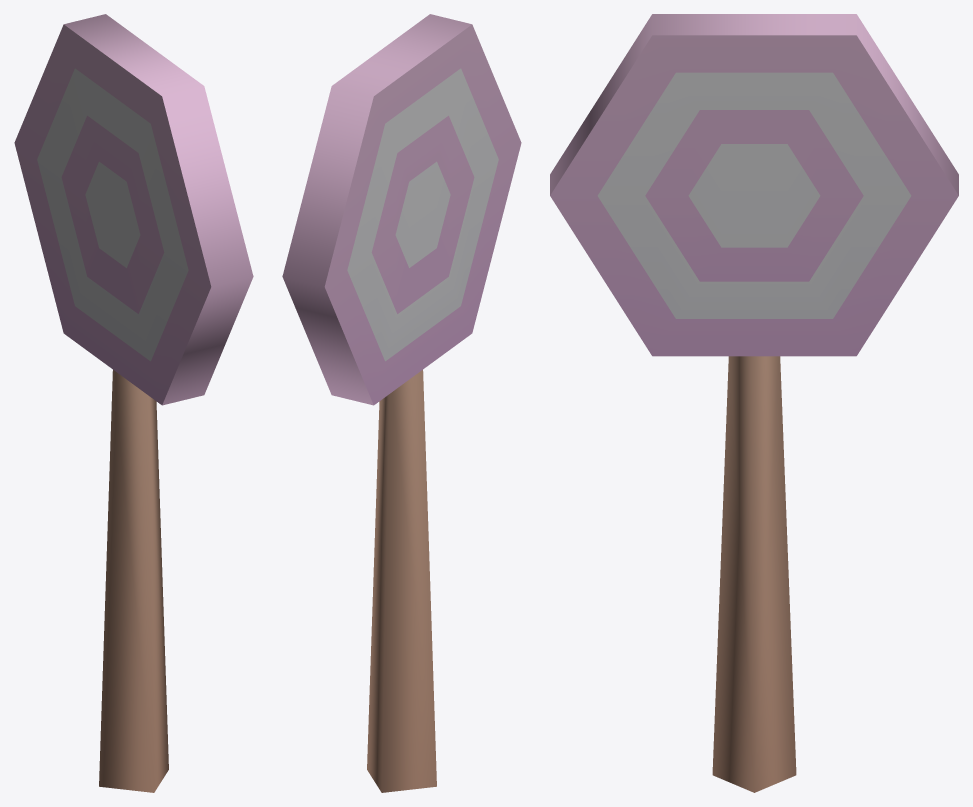
Rendered from lollypop.glb.
The picture shows the model from 3 angles, left to right: view 1: azimuth 30°, elevation 25°; view 2: azimuth 150°, elevation 25°; view 3: azimuth 270°, elevation 25°; orthographic projection. The views are drawn at different scales.
Visible parts, largest first — view 1: lollypop; view 2: lollypop; view 3: lollypop.
Part boxes in pixels (x1,y1,x2,y2): lollypop: (14,14,253,792); lollypop: (282,14,521,792); lollypop: (550,14,958,792).
Size of the model in its own units: 0.0385 by 0.3798 by 0.1875.
